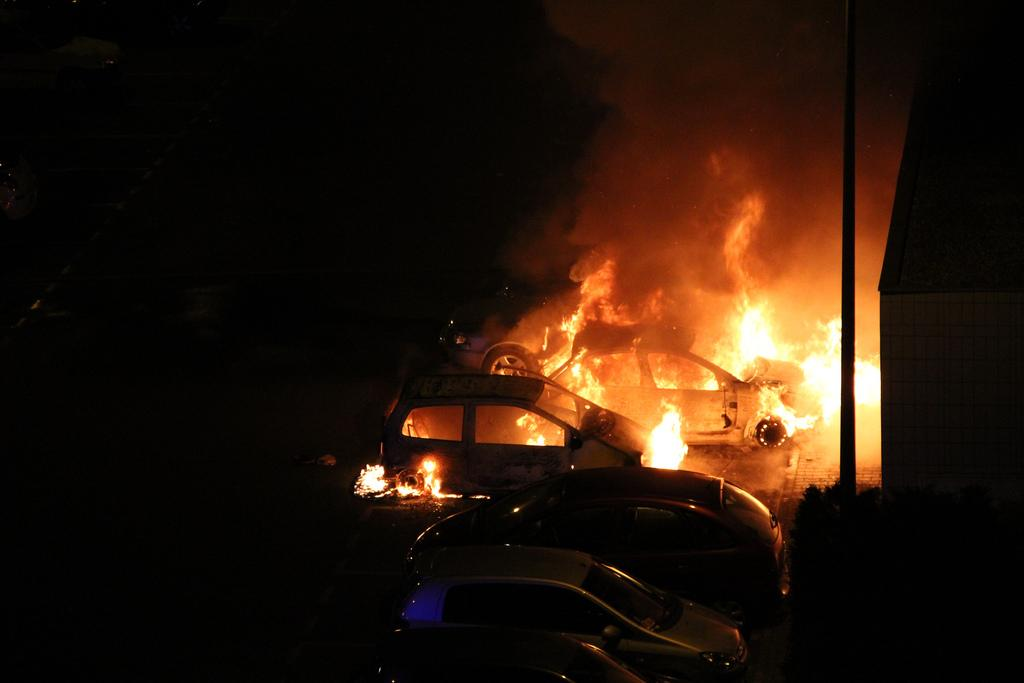fire: (732, 312, 838, 427)
